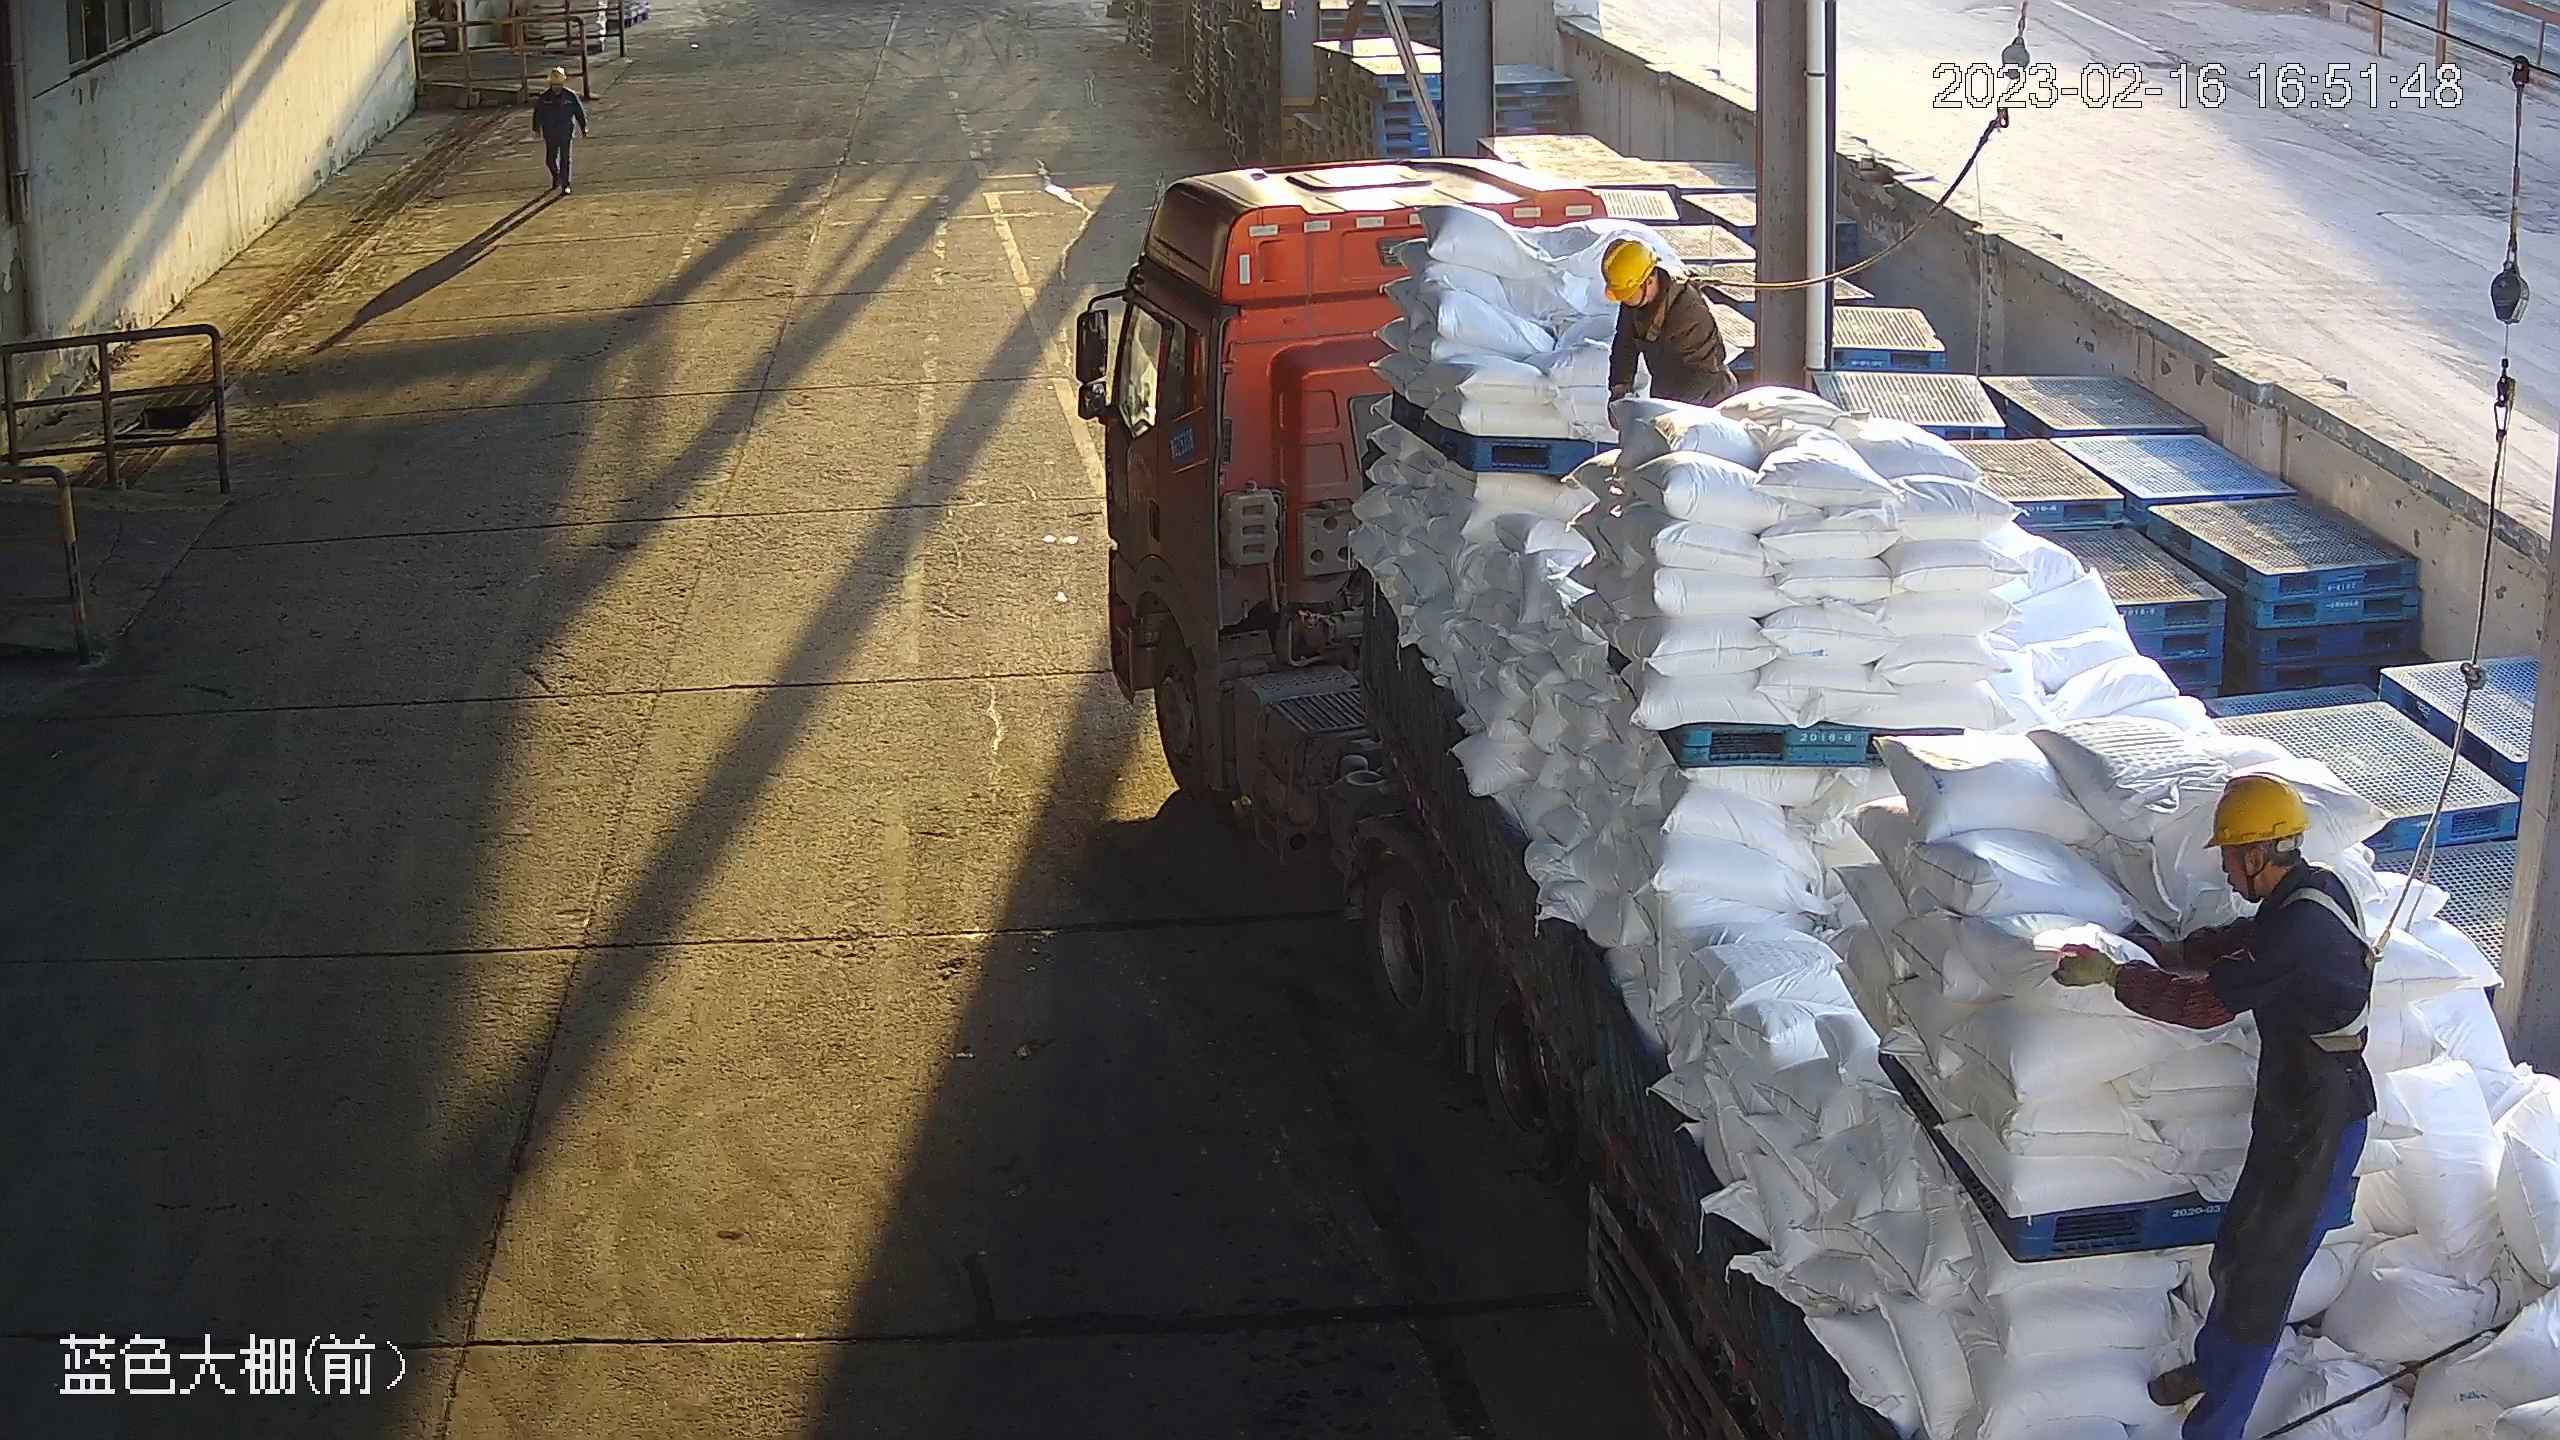belt: (2285, 884, 2397, 1043), (1644, 268, 1718, 337)
head: (2159, 770, 2370, 1008), (1601, 238, 1712, 340), (532, 65, 584, 113)
helmet: (1585, 238, 1662, 292), (545, 63, 568, 83)
people: (2079, 771, 2377, 1434), (529, 62, 598, 194)
truck: (1077, 163, 2552, 1435)
